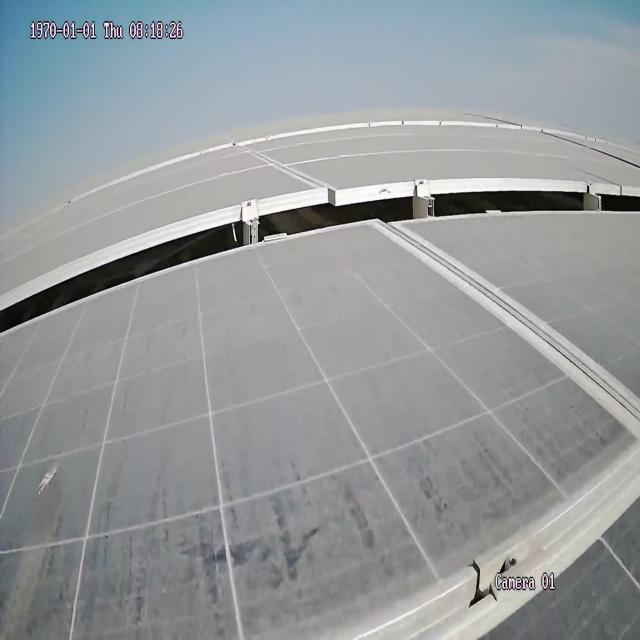interior panel: (334, 226, 640, 640)
outher panel: (1, 178, 639, 336)
